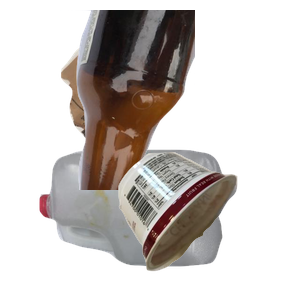cardboard: (58, 31, 222, 188)
glass: (60, 10, 300, 190)
plastic: (37, 147, 254, 300)
trash: (116, 149, 300, 300)
